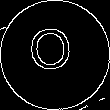O_S: (32, 28, 78, 82)
